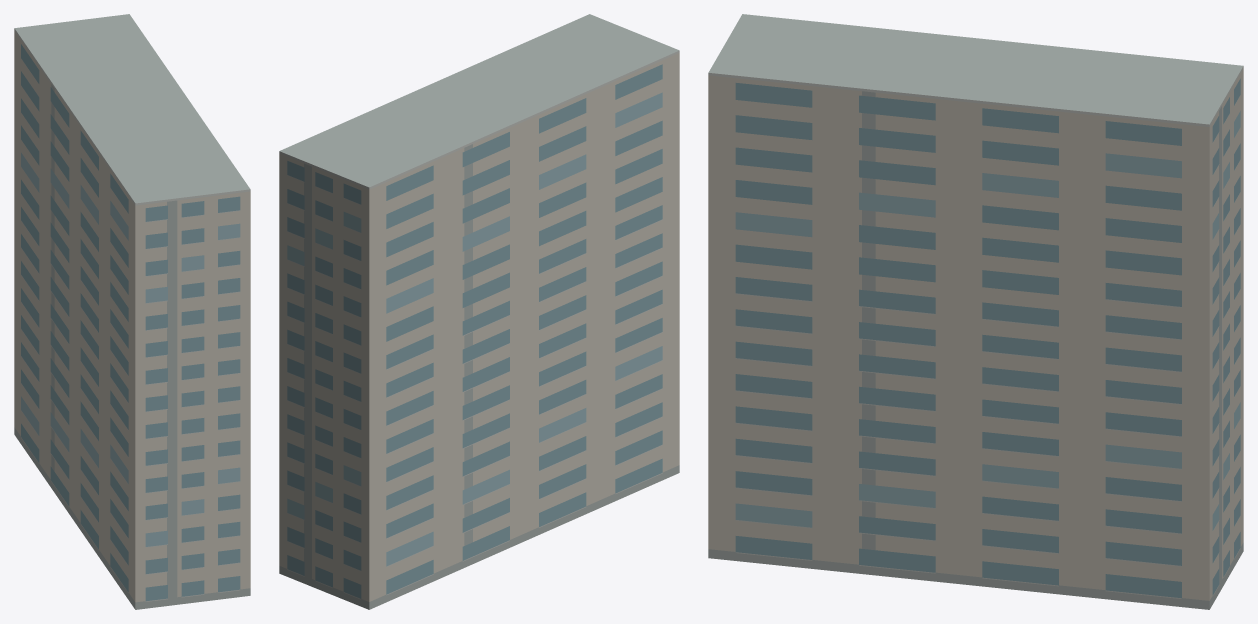
File: residential-b77d9ab1-afd2-490c-9142-3f2edd12659c.glb
3 renders of one model, left to right at view 1: azimuth 30°, elevation 25°; view 2: azimuth 150°, elevation 25°; view 3: azimuth 270°, elevation 25°, orthographic. The views are drawn at different scales.
Parts seen in each view (by area): view 1: residential-b77d9ab1-afd2-490c-9142-3f2edd12659c.tmp; view 2: residential-b77d9ab1-afd2-490c-9142-3f2edd12659c.tmp; view 3: residential-b77d9ab1-afd2-490c-9142-3f2edd12659c.tmp.
Boxes of the visible parts, bbox=[...] form: residential-b77d9ab1-afd2-490c-9142-3f2edd12659c.tmp: bbox=[14, 14, 250, 609]; residential-b77d9ab1-afd2-490c-9142-3f2edd12659c.tmp: bbox=[279, 14, 679, 609]; residential-b77d9ab1-afd2-490c-9142-3f2edd12659c.tmp: bbox=[708, 14, 1243, 609].
Bounding box in the file's own units: 22.35 × 45.75 × 45.73.
